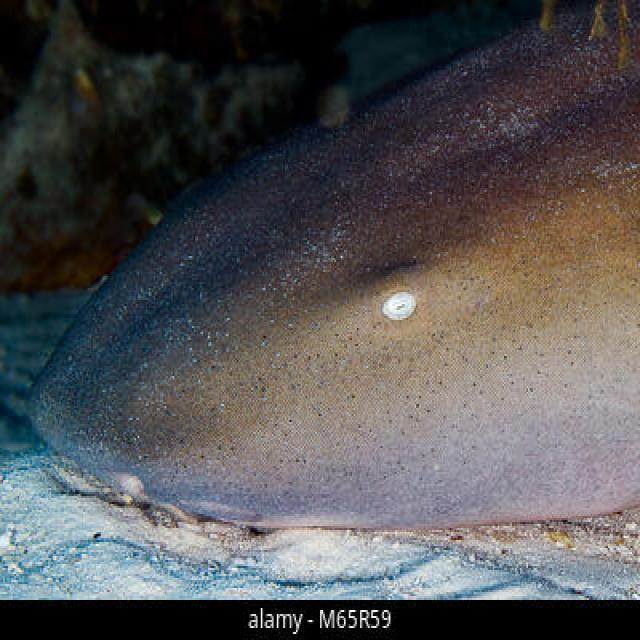Shark: (22, 0, 640, 588)
